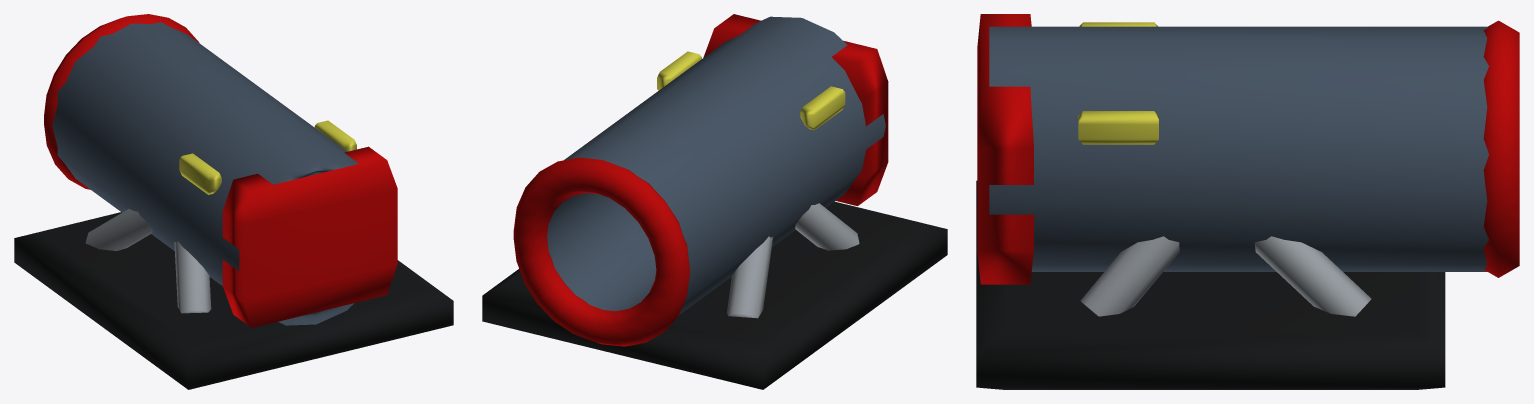
File: RocketLauncher.glb
3 renders of one model, left to right at view 1: azimuth 30°, elevation 25°; view 2: azimuth 150°, elevation 25°; view 3: azimuth 270°, elevation 25°, orthographic. The views are drawn at different scales.
Visible parts, largest first — view 1: Barrel, Body, Breech, Stand, Muzzle; view 2: Barrel, Body, Muzzle, Breech, Stand; view 3: Barrel, Body, Breech, Stand, Muzzle.
Part boxes in pixels (bbox=[...]): Barrel: bbox=[52, 22, 358, 325]; Body: bbox=[14, 212, 453, 389]; Breech: bbox=[179, 120, 397, 327]; Stand: bbox=[85, 209, 211, 313]; Muzzle: bbox=[44, 14, 199, 189]; Barrel: bbox=[547, 16, 885, 314]; Body: bbox=[482, 201, 947, 389]; Muzzle: bbox=[513, 157, 689, 346]; Breech: bbox=[657, 14, 888, 206]; Stand: bbox=[726, 203, 859, 318]; Barrel: bbox=[989, 26, 1488, 271]; Body: bbox=[976, 180, 1445, 389]; Breech: bbox=[977, 14, 1158, 284]; Stand: bbox=[1080, 236, 1371, 316]; Muzzle: bbox=[1483, 20, 1519, 277].
Bounding box in the file's own units: 0.714 × 0.5376 × 0.9408.
Materials: 1 (1 with a texture image).
